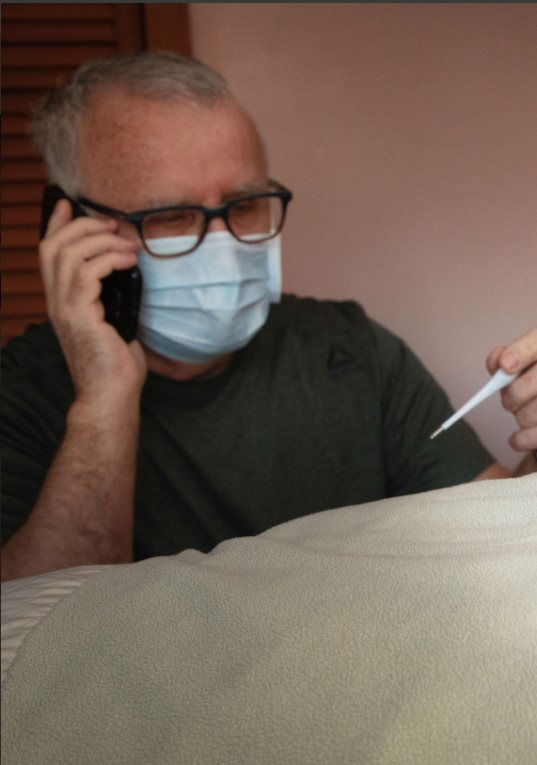face_with_mask: (41, 48, 288, 368)
